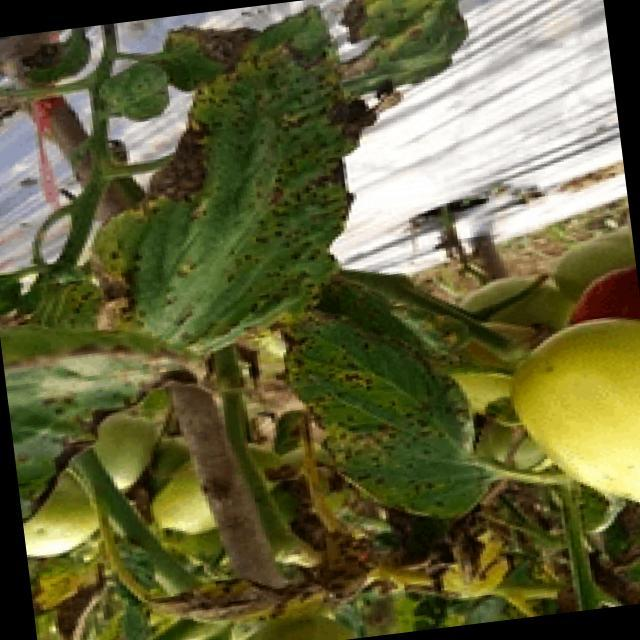Tomato bacterial spot leaf: (73, 0, 402, 373), (264, 251, 499, 541)
